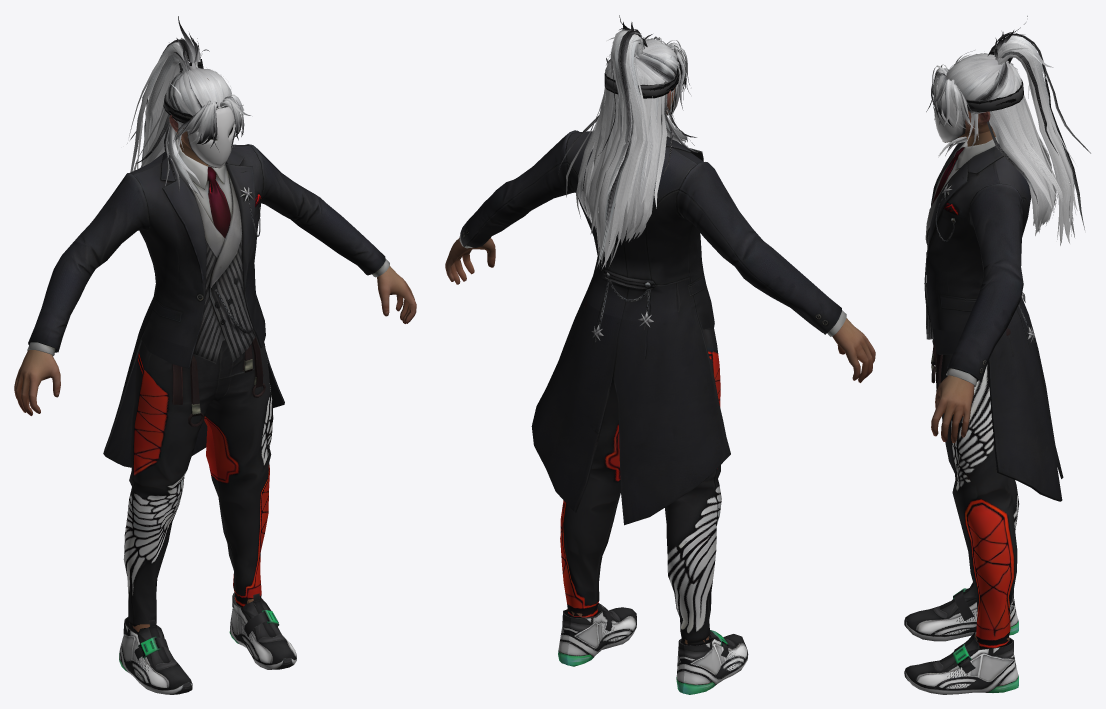
File: flepz.glb
The picture shows the model from 3 angles, left to right: view 1: azimuth 30°, elevation 25°; view 2: azimuth 150°, elevation 25°; view 3: azimuth 270°, elevation 25°; orthographic projection. The views are drawn at different scales.
Parts seen in each view (by area): view 1: flepz; view 2: flepz; view 3: flepz.
Part boxes in pixels (x1,y1,x2,y2): flepz: [14, 16, 416, 694]; flepz: [445, 15, 875, 694]; flepz: [904, 16, 1090, 694].
Size of the model in its own units: 0.6321 by 0.9677 by 0.2537.
Materials: 8 (8 with a texture image).
